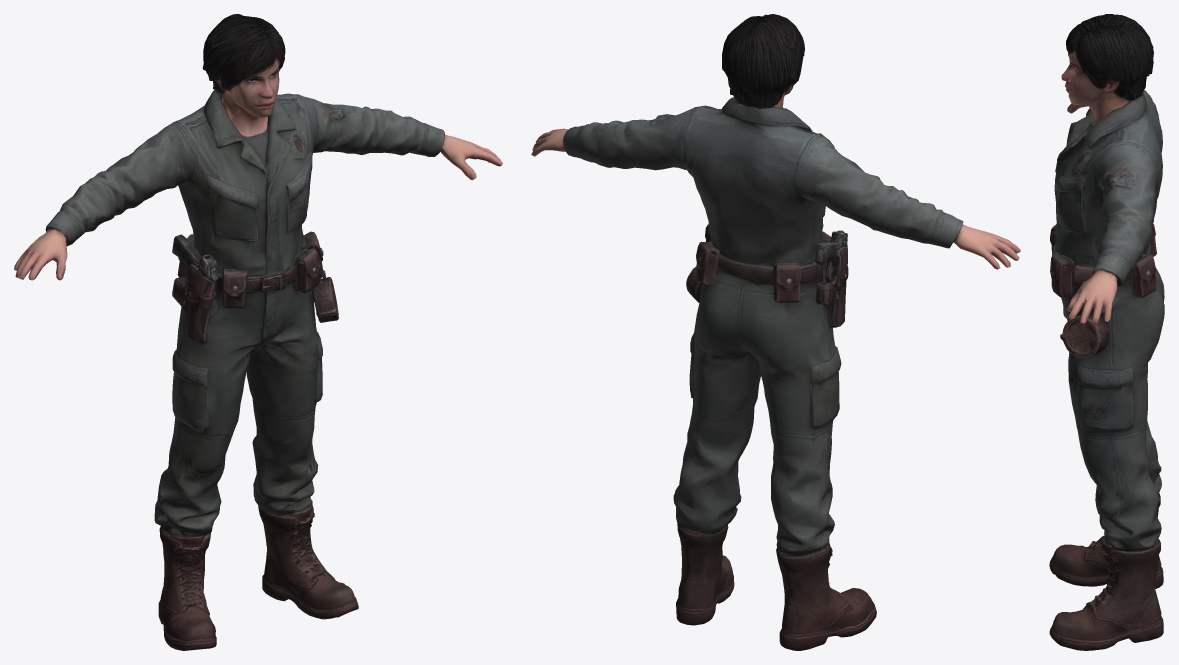
The model's file is char_f_military_idle.glb.
The picture shows the model from 3 angles, left to right: view 1: azimuth 30°, elevation 25°; view 2: azimuth 150°, elevation 25°; view 3: azimuth 270°, elevation 25°; orthographic projection.
Parts seen in each view (by area): view 1: tripo_node_e2eb57e8-9ed6-4585-950b-56beccd7b6a4; view 2: tripo_node_e2eb57e8-9ed6-4585-950b-56beccd7b6a4; view 3: tripo_node_e2eb57e8-9ed6-4585-950b-56beccd7b6a4.
Part boxes in pixels (bbox=[...]): tripo_node_e2eb57e8-9ed6-4585-950b-56beccd7b6a4: bbox=[14, 14, 502, 650]; tripo_node_e2eb57e8-9ed6-4585-950b-56beccd7b6a4: bbox=[531, 14, 1020, 650]; tripo_node_e2eb57e8-9ed6-4585-950b-56beccd7b6a4: bbox=[1049, 14, 1164, 650].
Size of the model in its own units: 1.41 by 1.68 by 0.296.
1 material, 1 textured.
